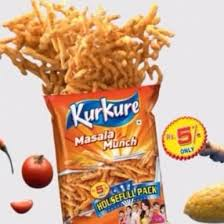kurkure: (16, 20, 144, 90), (66, 103, 140, 124)
plastic: (62, 101, 148, 215)
wrapper: (46, 86, 181, 222)
